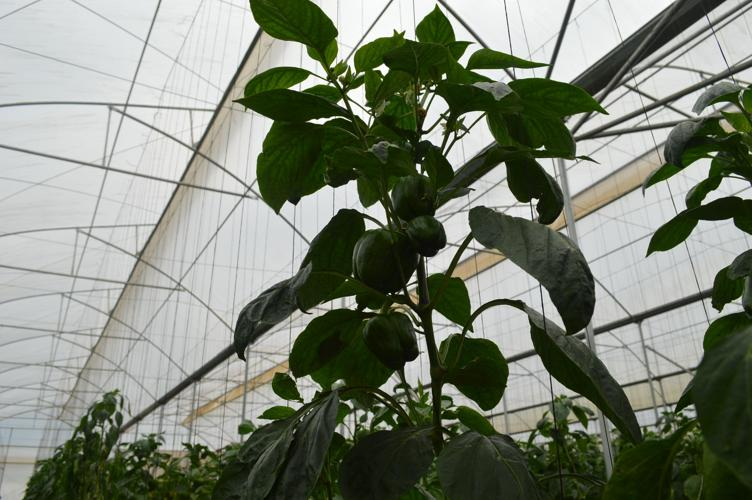BellPepper: (354, 229, 415, 294), (363, 310, 418, 372), (390, 175, 434, 216), (410, 216, 448, 259)
